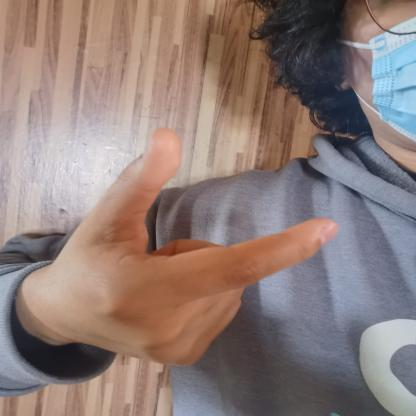G: (43, 120, 340, 389)
